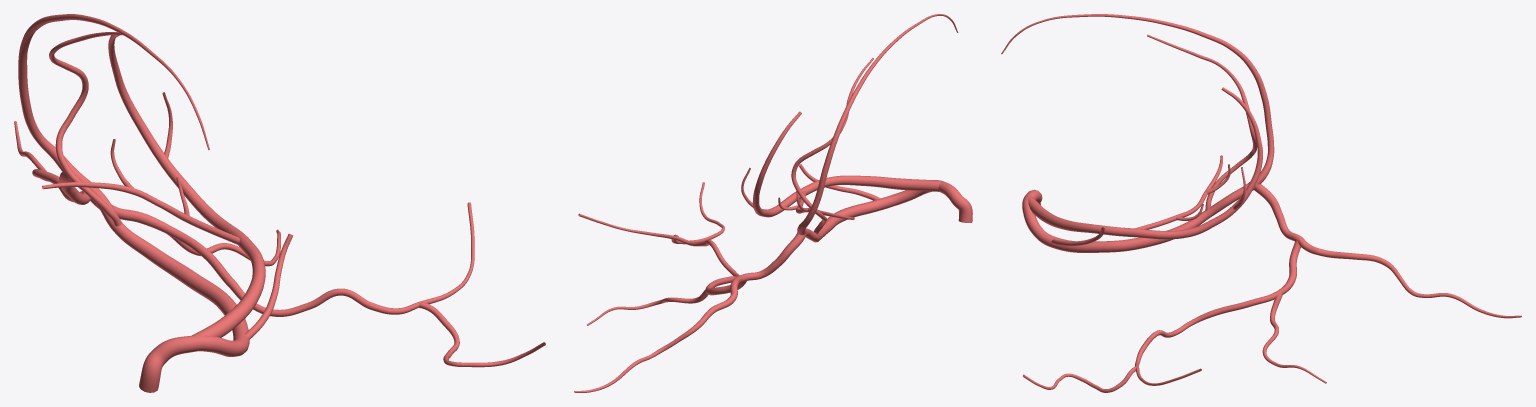
The model's file is Posterior_cerebral_artery.l_BezierCurve.242.glb.
3 views of the same model, side by side, from view 1: azimuth 30°, elevation 25°; view 2: azimuth 150°, elevation 25°; view 3: azimuth 270°, elevation 25° (orthographic). The views are drawn at different scales.
Parts seen in each view (by area): view 1: Posterior_cerebral_artery.l_BezierCurve.242; view 2: Posterior_cerebral_artery.l_BezierCurve.242; view 3: Posterior_cerebral_artery.l_BezierCurve.242.
Boxes of the visible parts, x1=… form: Posterior_cerebral_artery.l_BezierCurve.242: x1=14, y1=14, x2=545, y2=392; Posterior_cerebral_artery.l_BezierCurve.242: x1=574, y1=14, x2=972, y2=392; Posterior_cerebral_artery.l_BezierCurve.242: x1=1001, y1=14, x2=1521, y2=392.
Size of the model in its own units: 0.0566 by 0.0467 by 0.0817.
